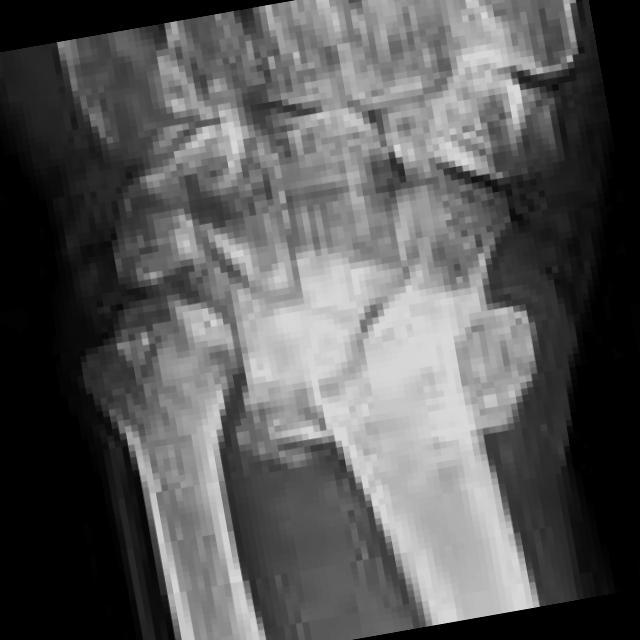Impact Fracture: (326, 290, 408, 392)
